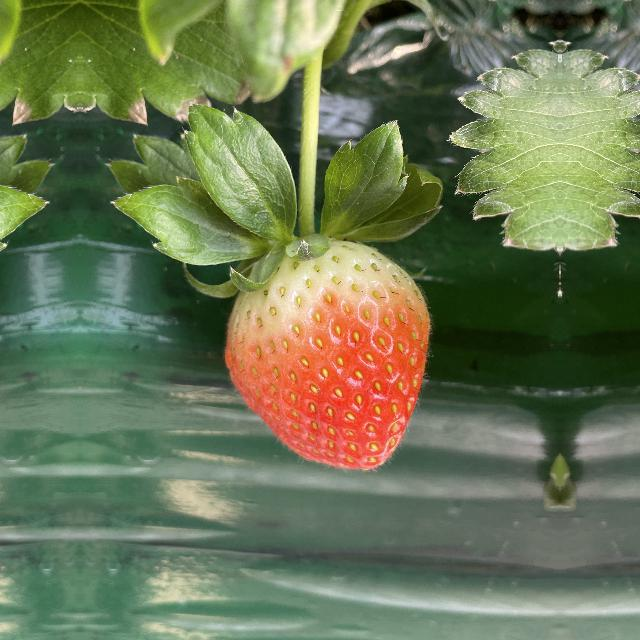Health_100: (205, 220, 437, 484)
